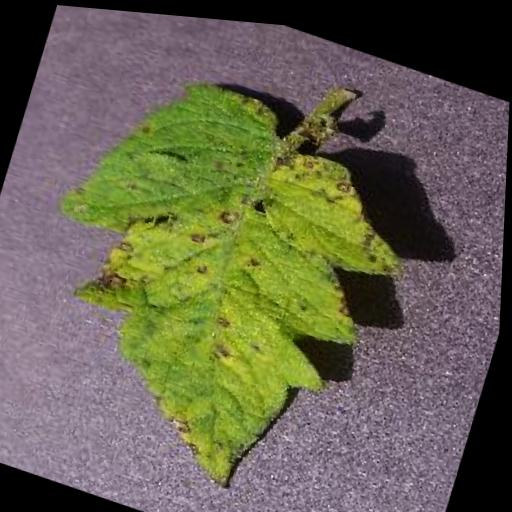Septoria: (0, 39, 438, 512)
